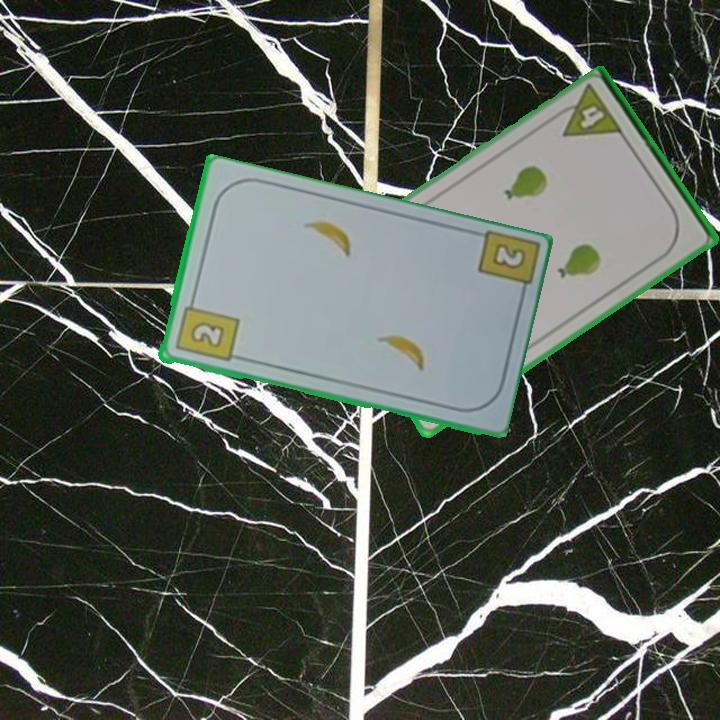2b: (171, 294, 241, 365), (473, 229, 539, 304)
4p: (549, 82, 627, 141)
